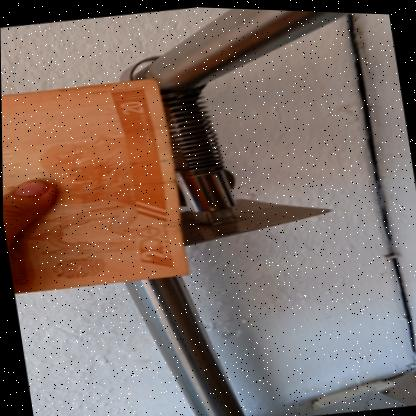twenty-back-vef: (1, 72, 190, 297)
